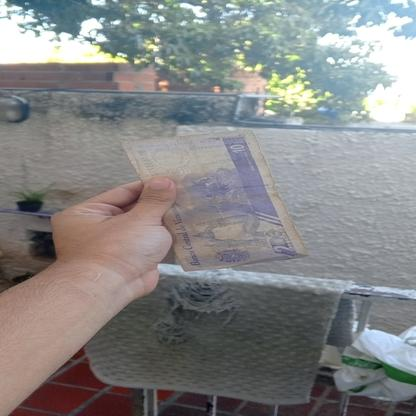ten-back-vef: (119, 132, 308, 272)
